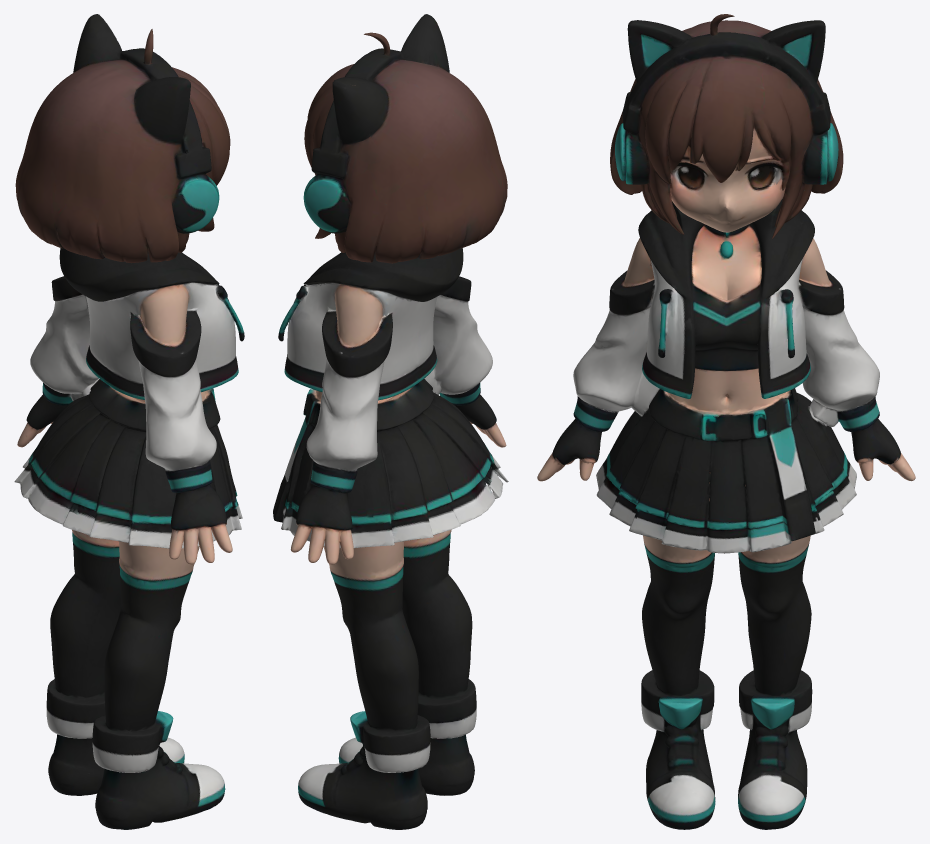
Rendered from tripo100K.fbx.
3 renders of one model, left to right at view 1: azimuth 30°, elevation 25°; view 2: azimuth 150°, elevation 25°; view 3: azimuth 270°, elevation 25°, orthographic. The views are drawn at different scales.
Visible parts, largest first — view 1: tripo_node_66317319; view 2: tripo_node_66317319; view 3: tripo_node_66317319.
Part boxes in pixels (x1,y1,x2,y2): tripo_node_66317319: (14, 14, 244, 829); tripo_node_66317319: (273, 14, 508, 829); tripo_node_66317319: (537, 14, 915, 829).
Bounding box in the file's own units: 0.2614 × 0.9998 × 0.4322.
1 material, 1 textured.
